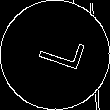L_W: (26, 32, 84, 78)
